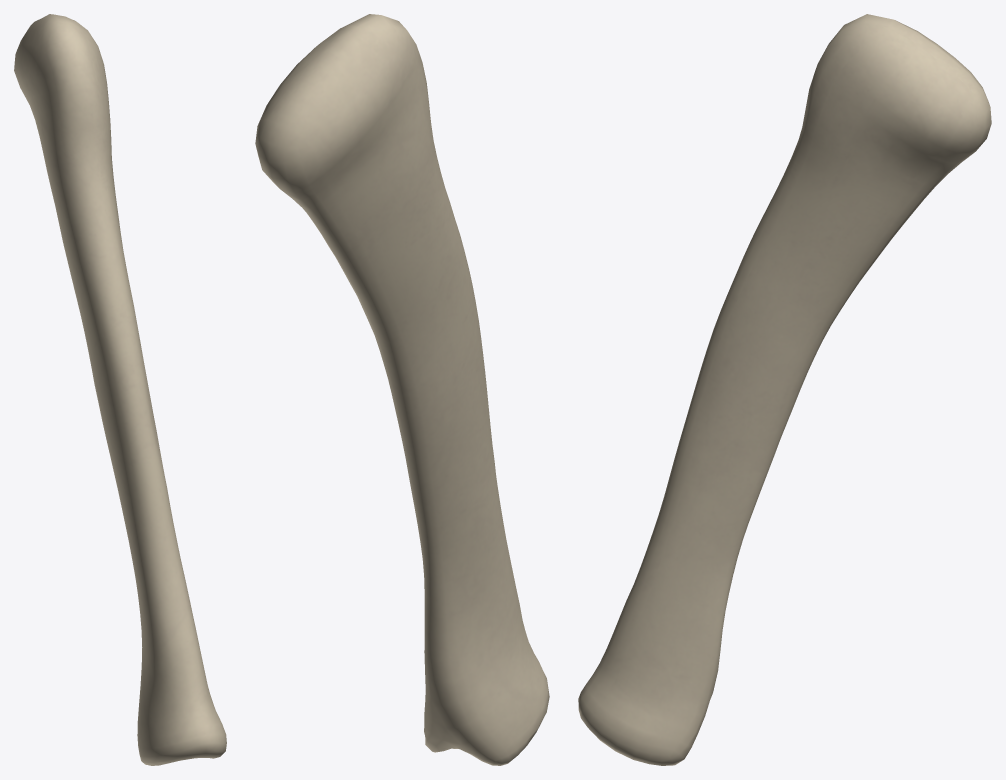
The model's file is L metacarpi secundum.fbx.
3 views of the same model, side by side, from view 1: azimuth 30°, elevation 25°; view 2: azimuth 150°, elevation 25°; view 3: azimuth 270°, elevation 25° (orthographic). The views are drawn at different scales.
Visible parts, largest first — view 1: L metacarpi secundum; view 2: L metacarpi secundum; view 3: L metacarpi secundum.
Boxes of the visible parts, x1,y1,x2,y2 form: L metacarpi secundum: [14, 14, 226, 765]; L metacarpi secundum: [255, 14, 549, 765]; L metacarpi secundum: [578, 14, 991, 765].
Size of the model in its own units: 1.37 by 10.6 by 5.45.
